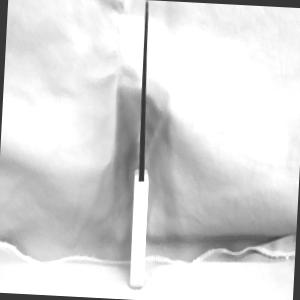serrote: (128, 0, 159, 289)
